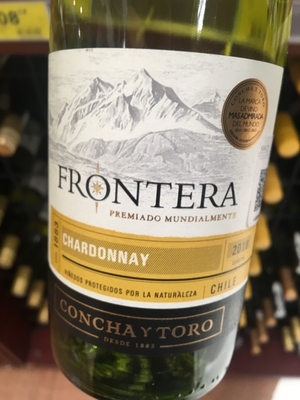frontera chardonnay: (47, 10, 283, 393)
